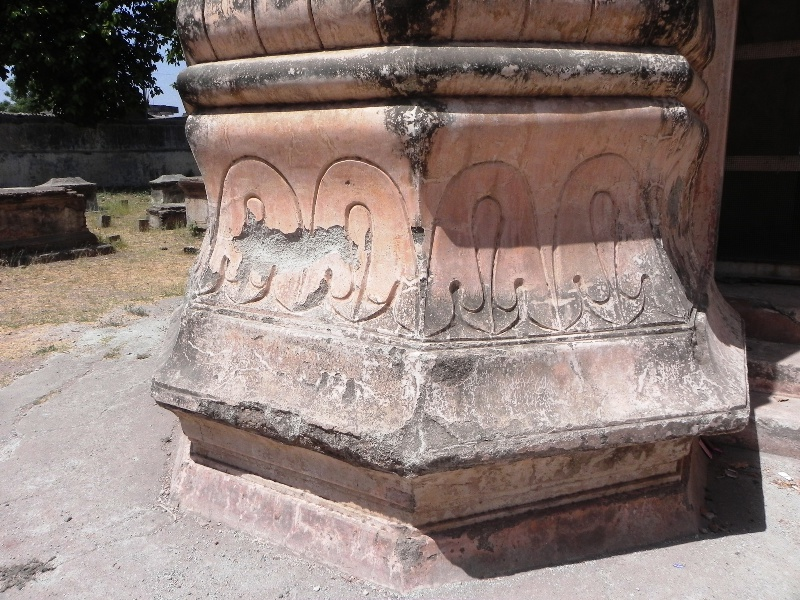Spalling: (235, 219, 356, 269), (408, 224, 427, 248)
